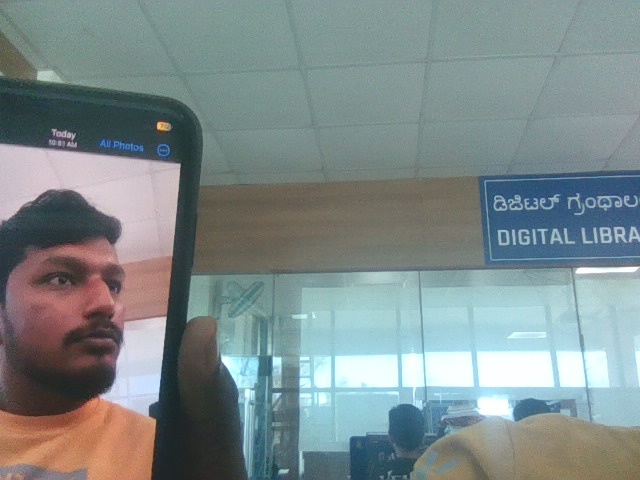fake: (0, 155, 175, 403)
